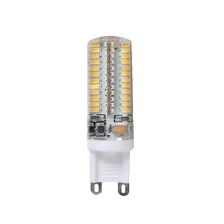light_bulb: (81, 32, 140, 197)
